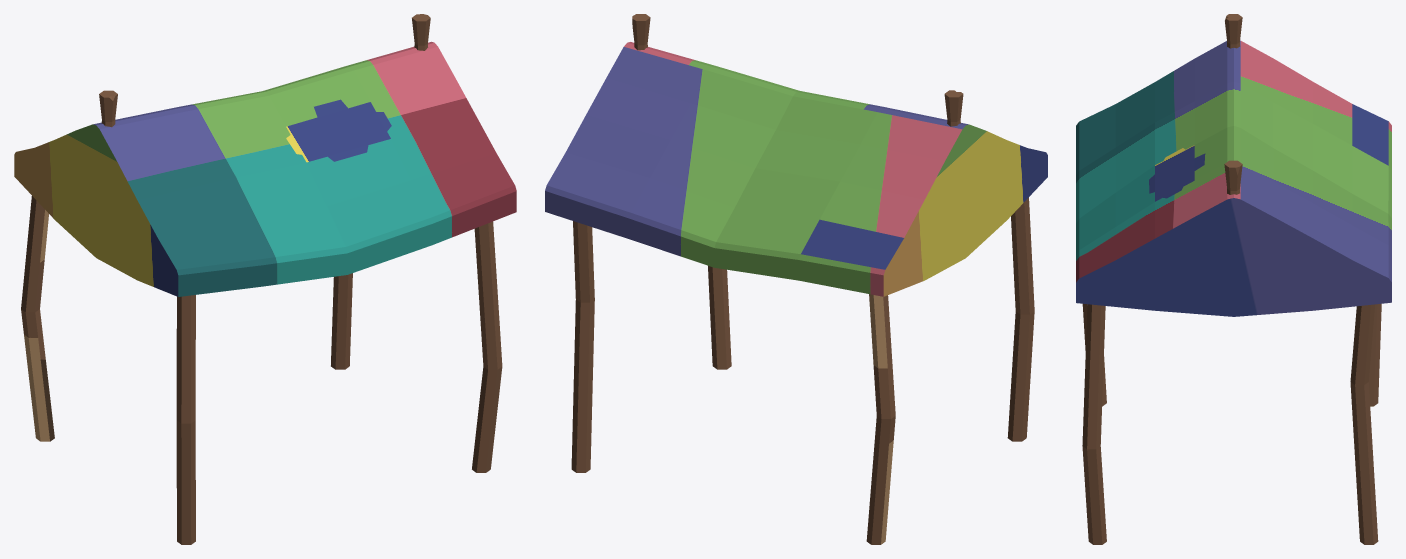
The model's file is Tent_1.fbx.
3 views of the same model, side by side, from view 1: azimuth 30°, elevation 25°; view 2: azimuth 150°, elevation 25°; view 3: azimuth 270°, elevation 25° (orthographic). The views are drawn at different scales.
Visible parts, largest first — view 1: Tent_1; view 2: Tent_1; view 3: Tent_1.
Part boxes in pixels (left/top/right/bottom): Tent_1: left=14, top=14, right=516, bottom=544; Tent_1: left=545, top=14, right=1047, bottom=544; Tent_1: left=1076, top=14, right=1391, bottom=544.
Size of the model in its own units: 258 by 308 by 345.
